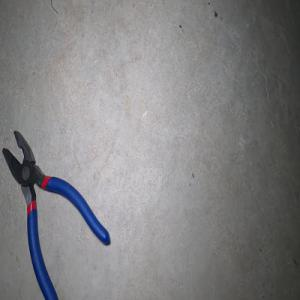Pliers: (1, 130, 110, 300)
